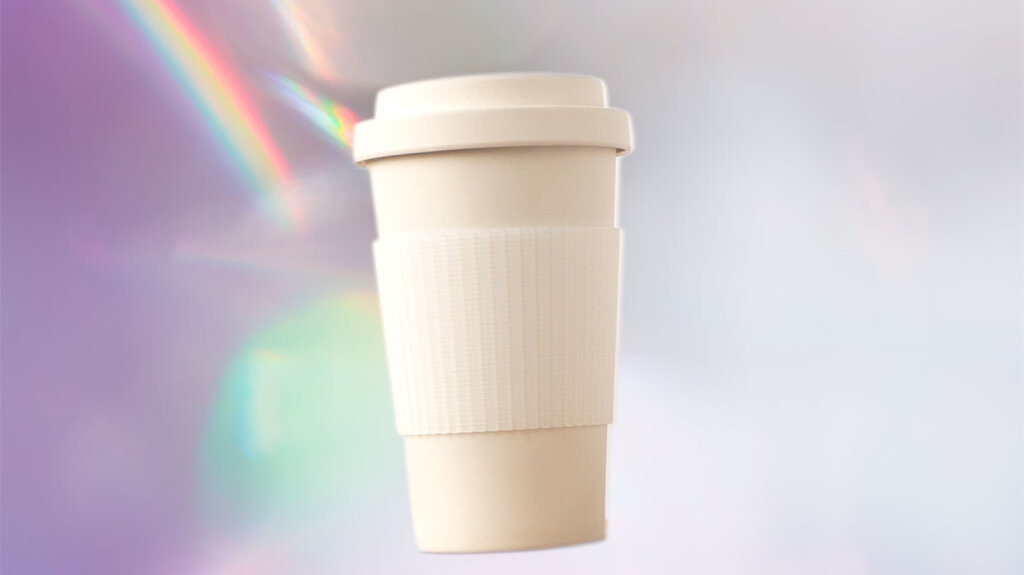cup: (353, 67, 636, 557)
